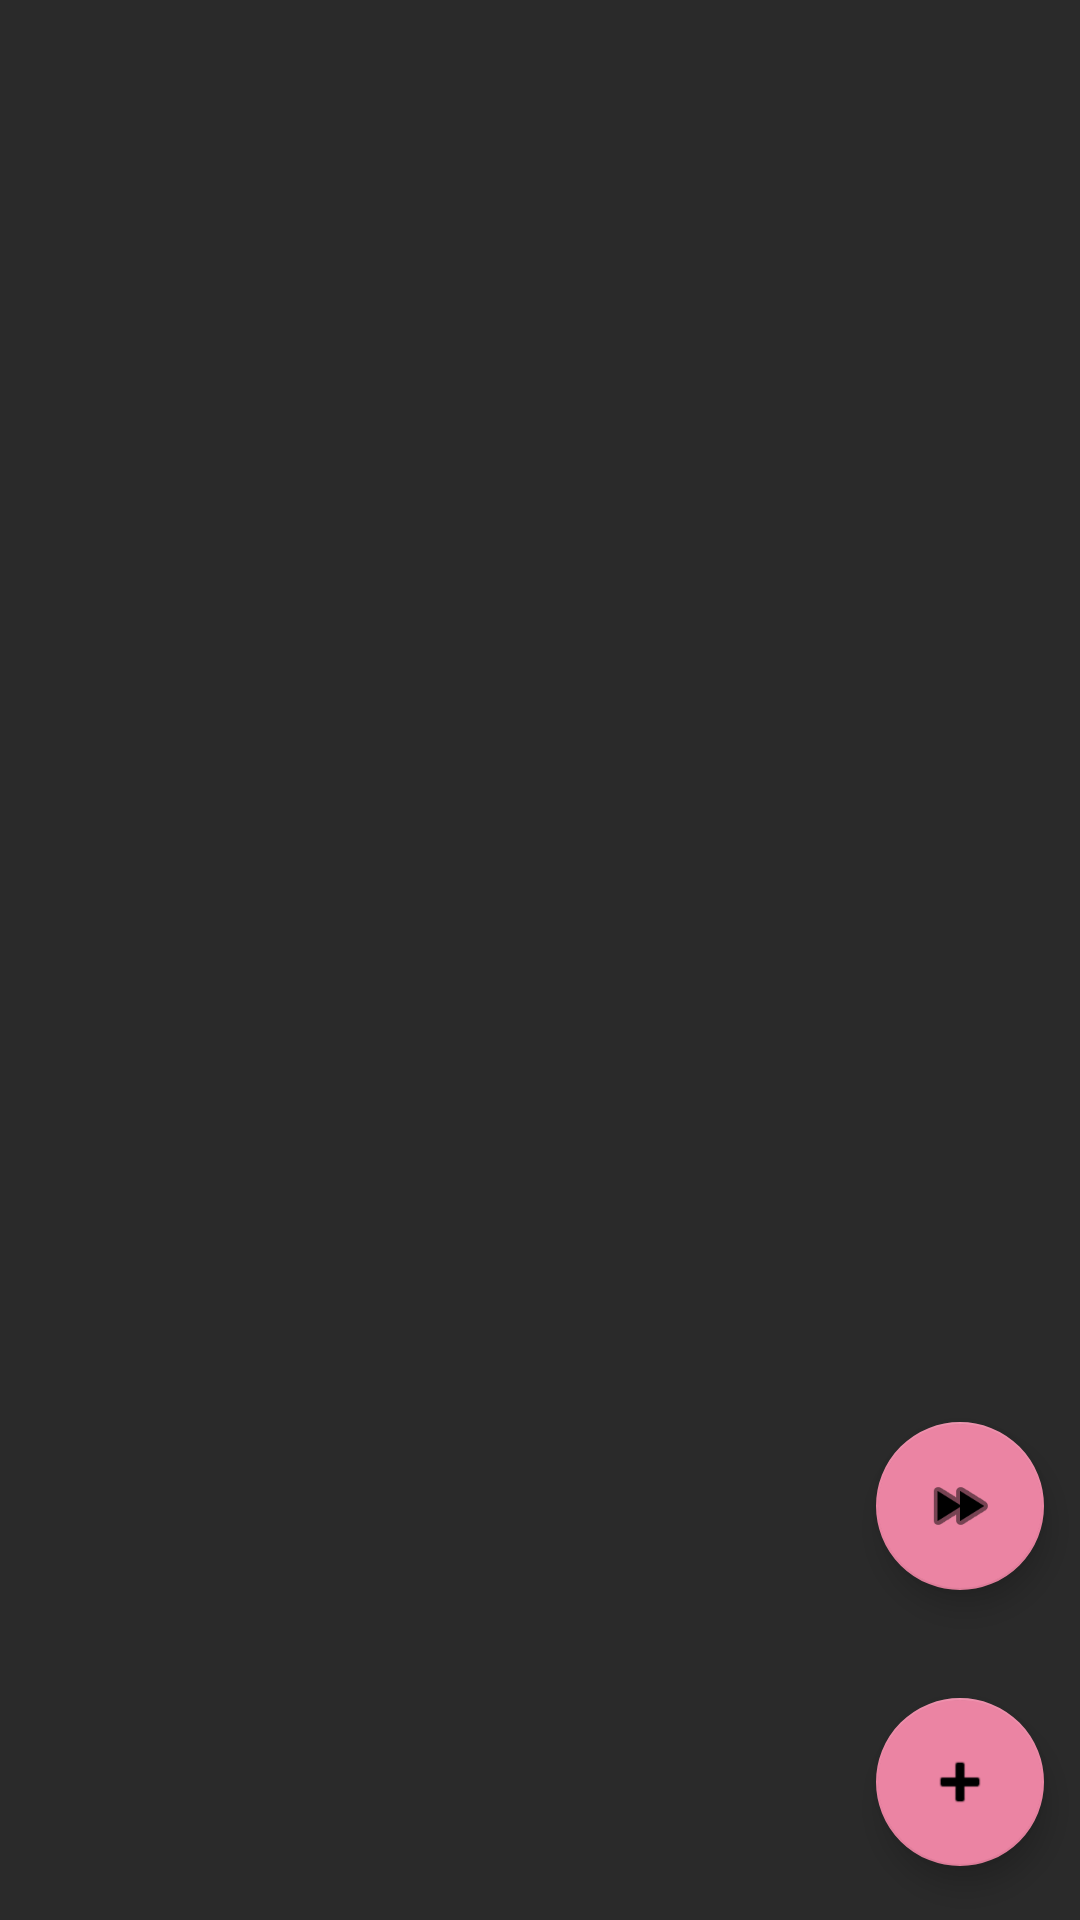

Icons on this 1080×1920 Android screen, each with its box as BBox(x1, y1, x2, y2):
add: BBox(876, 1698, 1044, 1866)
